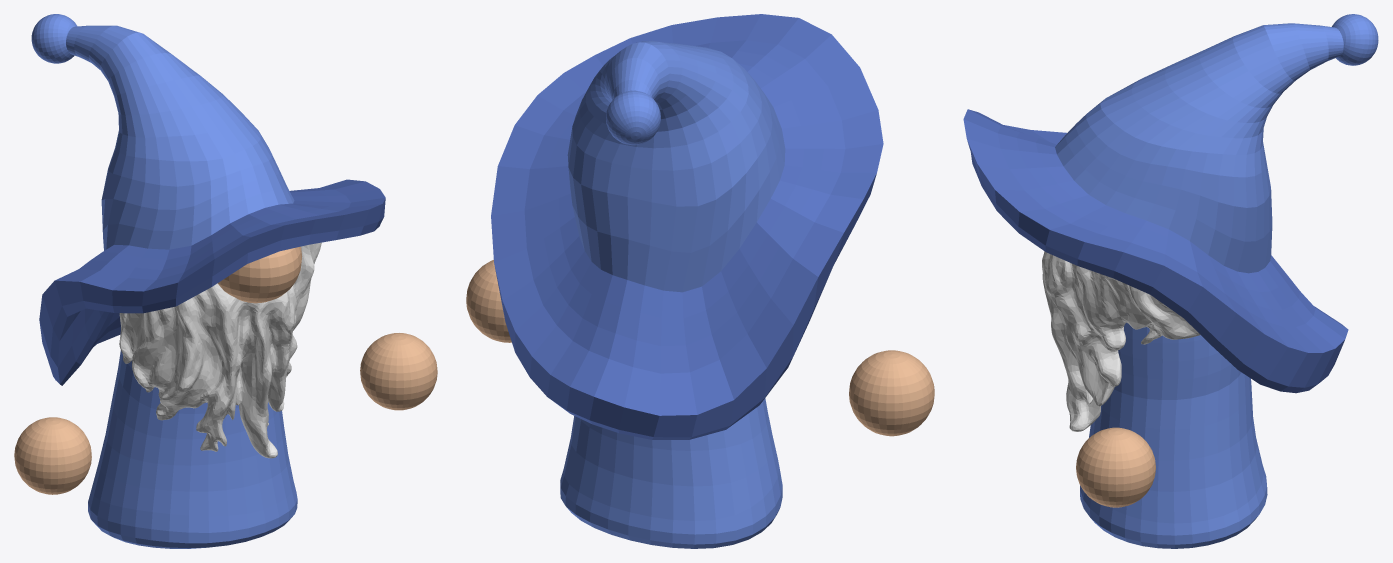
The model's file is Player.fbx.
3 views of the same model, side by side, from view 1: azimuth 30°, elevation 25°; view 2: azimuth 150°, elevation 25°; view 3: azimuth 270°, elevation 25° (orthographic). The views are drawn at different scales.
Parts seen in each view (by area): view 1: Player, LHand, RHand; view 2: Player, RHand, LHand; view 3: Player, LHand.
Part boxes in pixels (bbox=[...]): Player: bbox=[31, 14, 385, 548]; LHand: bbox=[360, 333, 437, 410]; RHand: bbox=[14, 417, 91, 494]; Player: bbox=[491, 14, 883, 548]; RHand: bbox=[849, 350, 934, 436]; LHand: bbox=[466, 260, 511, 342]; Player: bbox=[963, 14, 1378, 548]; LHand: bbox=[1076, 427, 1155, 507].
Bounding box in the file's own units: 387 × 409 × 326.
